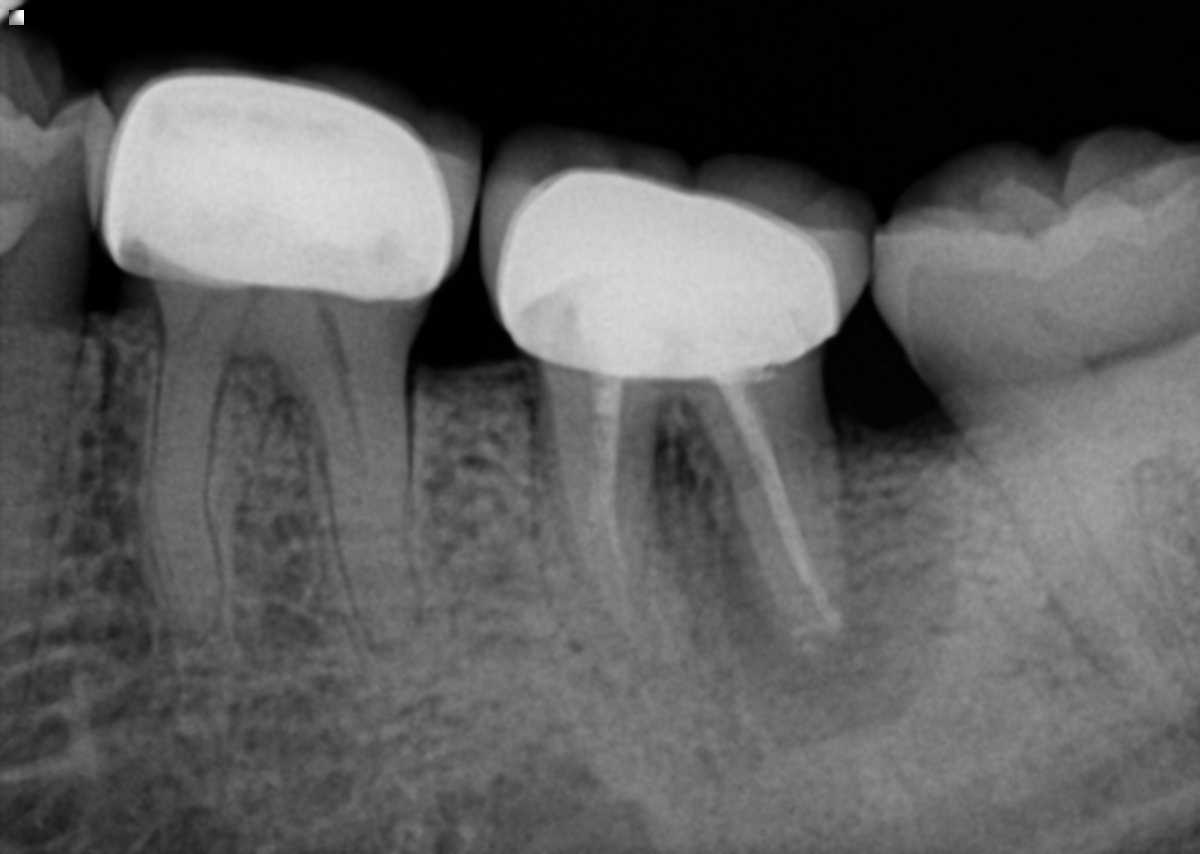Distal Canal: (340, 385, 368, 490)
Distal Root: (304, 374, 422, 653), (708, 419, 844, 646)
Main Root: (0, 348, 76, 749)
Mesial Root: (981, 452, 1200, 735), (542, 386, 663, 611), (152, 359, 229, 631)
Root Canal Filling: (722, 378, 835, 624), (592, 377, 633, 573)
